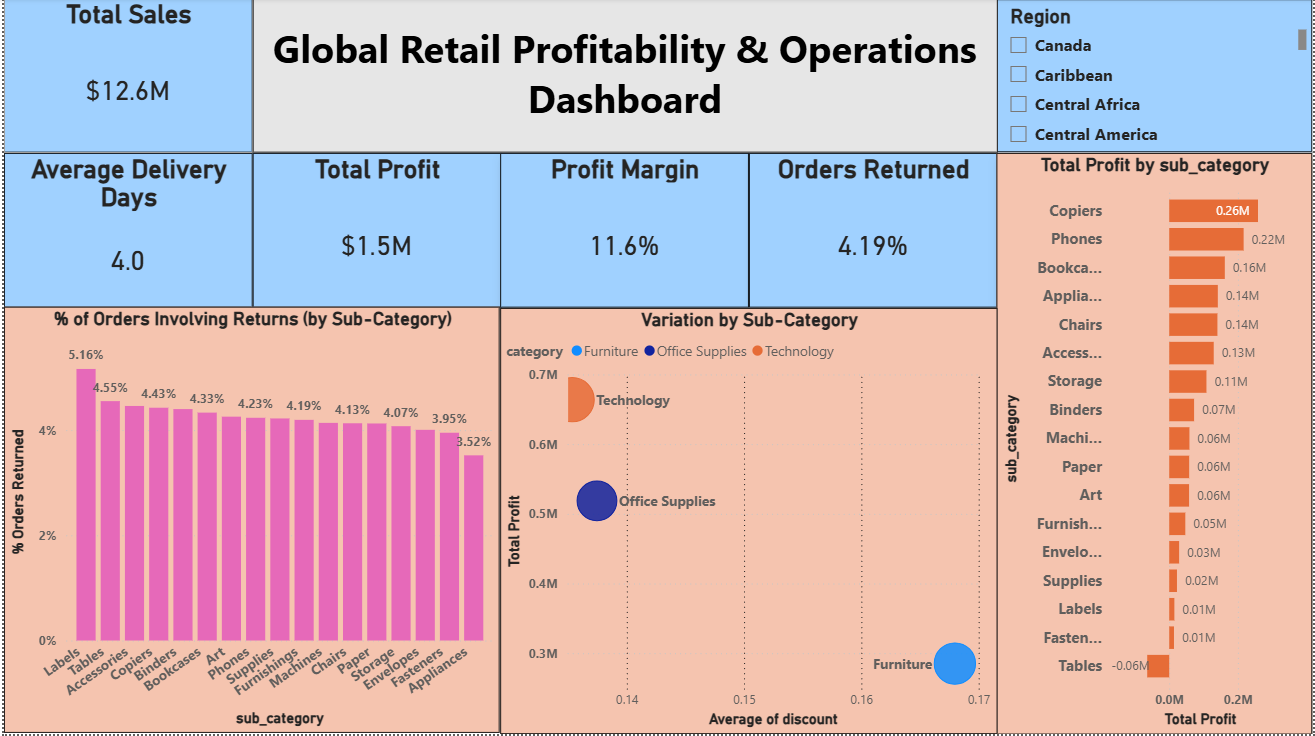

Layout of this report page (visuals, bound fields, positions):
{"tool":"powerbi","page":{"name":"Page 1","canvas":[1280,720],"ordinal":0},"visuals":[{"type":"card","title":"Total Sales","fields":{"Values":["orders_cleaned.Total Sales"]},"box":[0,0,242.9,151.4],"z":0},{"type":"card","title":"Total Profit","fields":{"Values":["orders_cleaned.Total Profit"]},"box":[242.9,151.4,242.9,151.4],"z":1000},{"type":"card","title":"Profit Margin","fields":{"Values":["orders_cleaned.Profit Margin"]},"box":[485.7,151.4,242.9,151.4],"z":2000},{"type":"card","title":"Average Delivery Days","fields":{"Values":["orders_cleaned.Avg Delivery Days"]},"box":[0,151.4,242.9,151.4],"z":3000},{"type":"card","title":"Return Rate","fields":{"Values":["orders_cleaned.% Orders Returned"]},"box":[728.6,151.4,242.9,151.4],"z":4000},{"type":"clusteredBarChart","fields":{"Category":["orders_cleaned.sub_category"],"Y":["orders_cleaned.Total Profit"]},"box":[971.4,151.4,308.6,568.6],"z":5000},{"type":"scatterChart","title":"Variation by Sub-Category","fields":{"X":["Avg(orders_cleaned.discount)"],"Y":["orders_cleaned.Total Profit"],"Size":["orders_cleaned.Total Sales"],"Series":["orders_cleaned.category"]},"box":[485,302.9,486.4,416.7],"z":6000},{"type":"clusteredColumnChart","title":"% of Orders Involving Returns (by Sub-Category)","fields":{"Y":["orders_cleaned.% Orders Returned"],"Category":["orders_cleaned.sub_category"]},"box":[0,301.5,485,416.7],"z":7000},{"type":"slicer","fields":{"Values":["orders_cleaned.region"]},"box":[971.4,1.4,308.6,149.3],"z":8000},{"type":"textbox","box":[242.9,0,728.6,151],"z":9000}]}

Visuals, with their boxes in screenshot pixels (x1, y1, x2, y2), scaled from the page's 1280x720 canvas onto the 1315x736 screenshot:
"Total Sales" card: 0 0 250 155
"Total Profit" card: 250 155 499 310
"Profit Margin" card: 499 155 749 310
"Average Delivery Days" card: 0 155 250 310
"Return Rate" card: 749 155 998 310
clusteredBarChart - orders_cleaned.sub_category x orders_cleaned.Total Profit: 998 155 1314 735
"Variation by Sub-Category" scatterChart: 498 310 998 735
"% of Orders Involving Returns (by Sub-Category)" clusteredColumnChart: 0 308 498 734
slicer - orders_cleaned.region: 998 1 1314 154
textbox: 250 0 998 154
